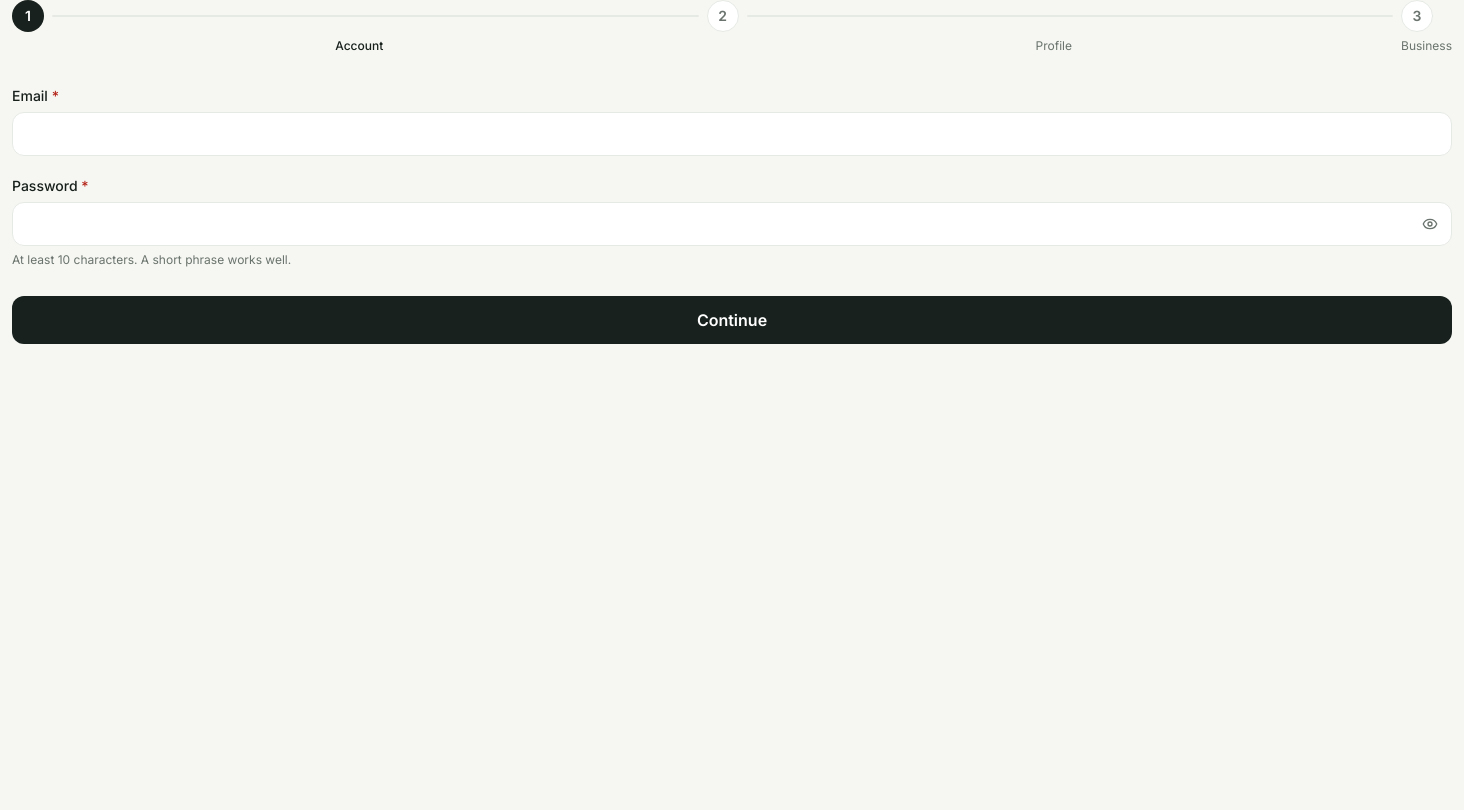
Test: SignupForm › suggests the page address from the business name until it's edited
Type "asha@example.com" into the field labelled "Email *" at point(732, 134), box [12, 112, 1452, 156]
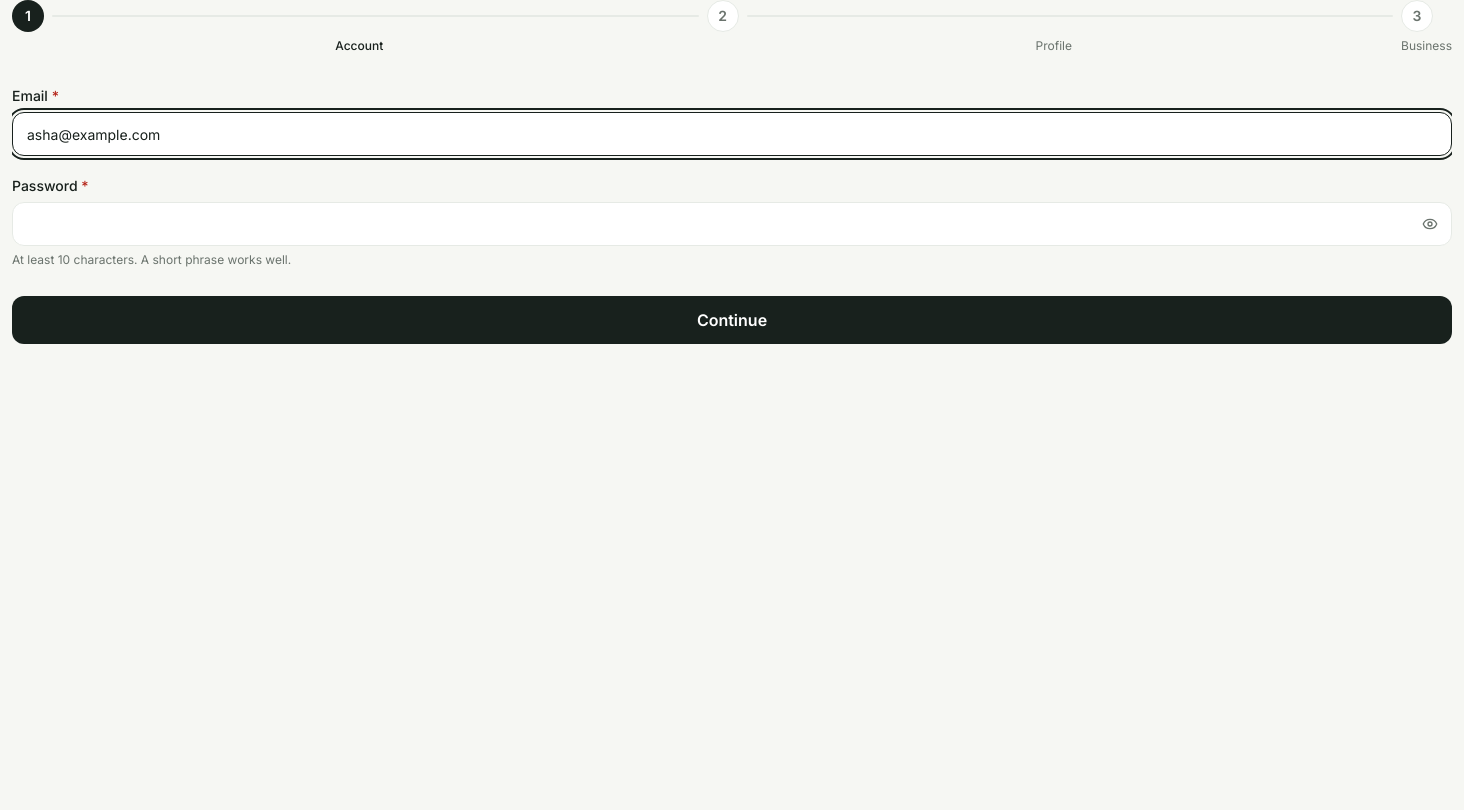
Type "a-long-unique-passphrase" into the password field labelled "Password *" at point(732, 224), box [12, 202, 1452, 246]
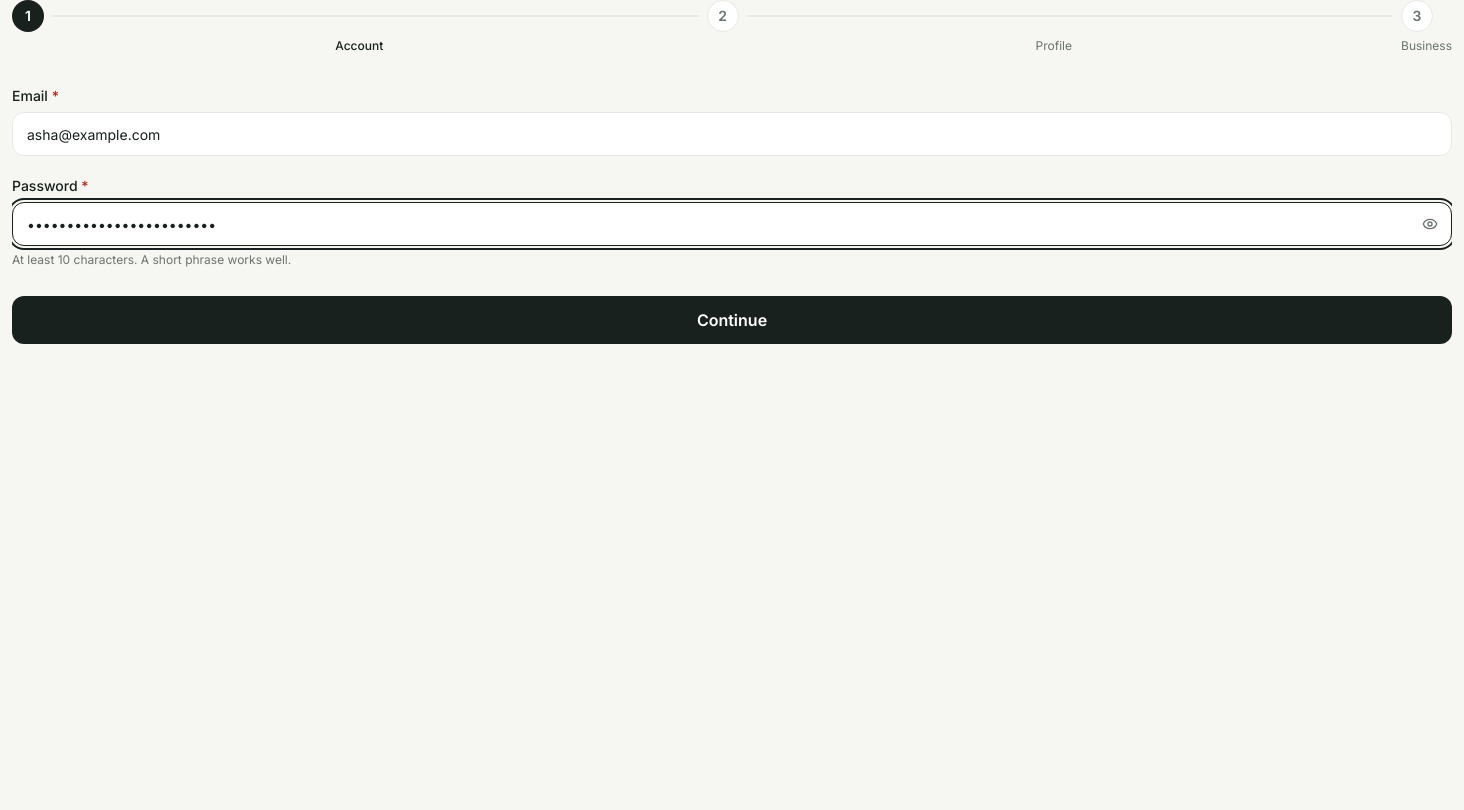
Click the button "Continue" at point(732, 320), box [12, 296, 1452, 344]
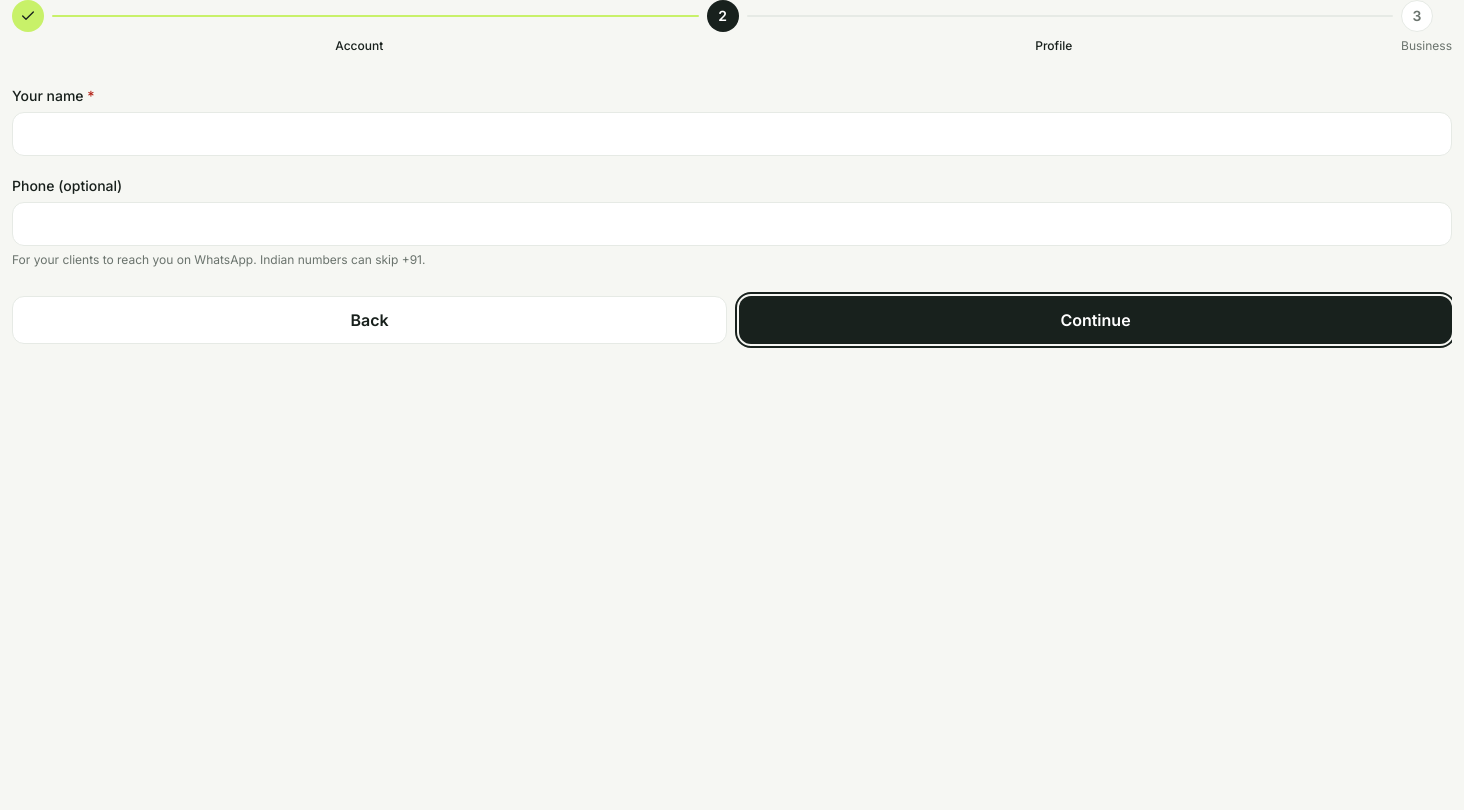
Type "Asha Rao" into the field labelled "Your name *" at point(732, 134), box [12, 112, 1452, 156]
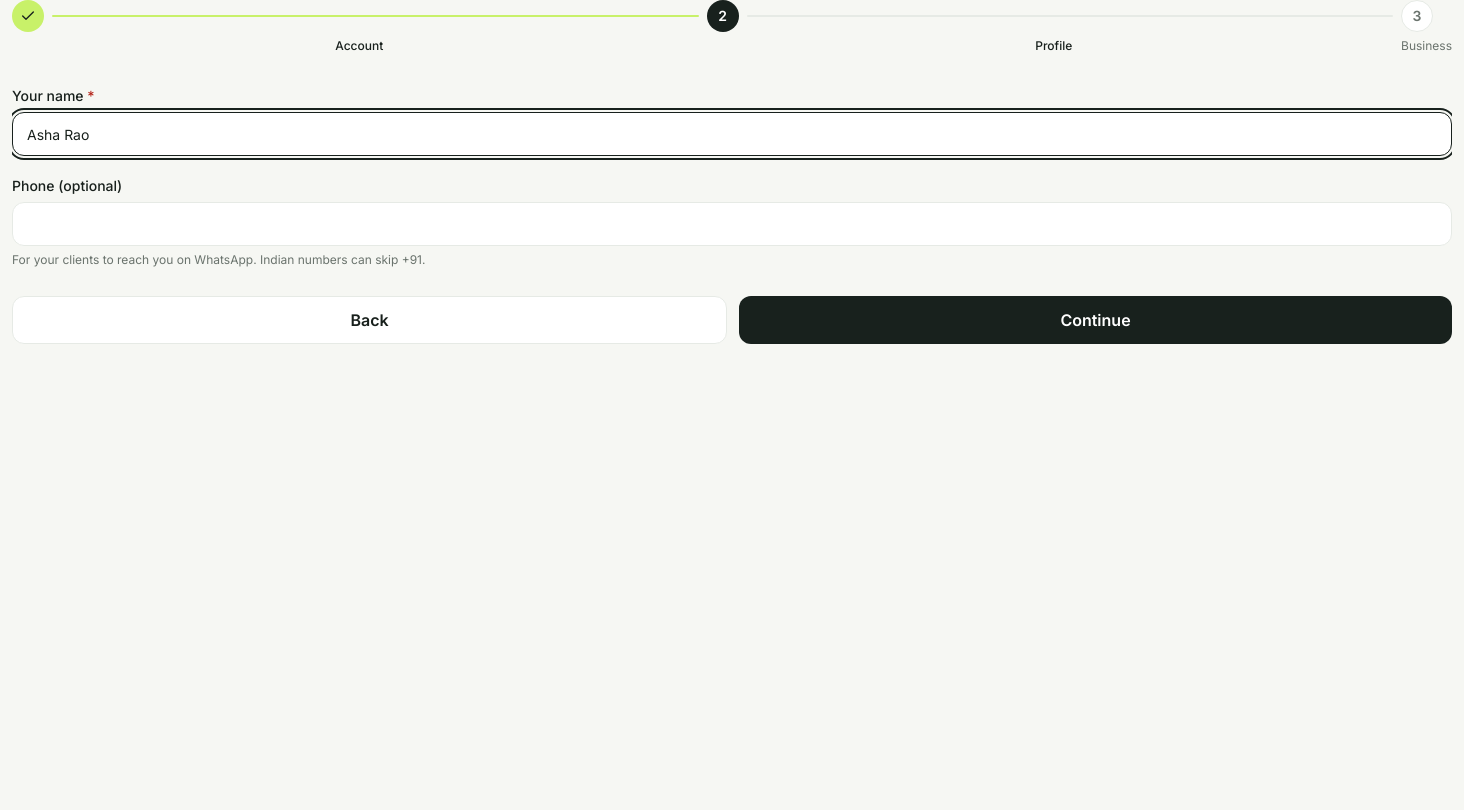
Click the button "Continue" at point(1096, 320), box [739, 296, 1452, 344]
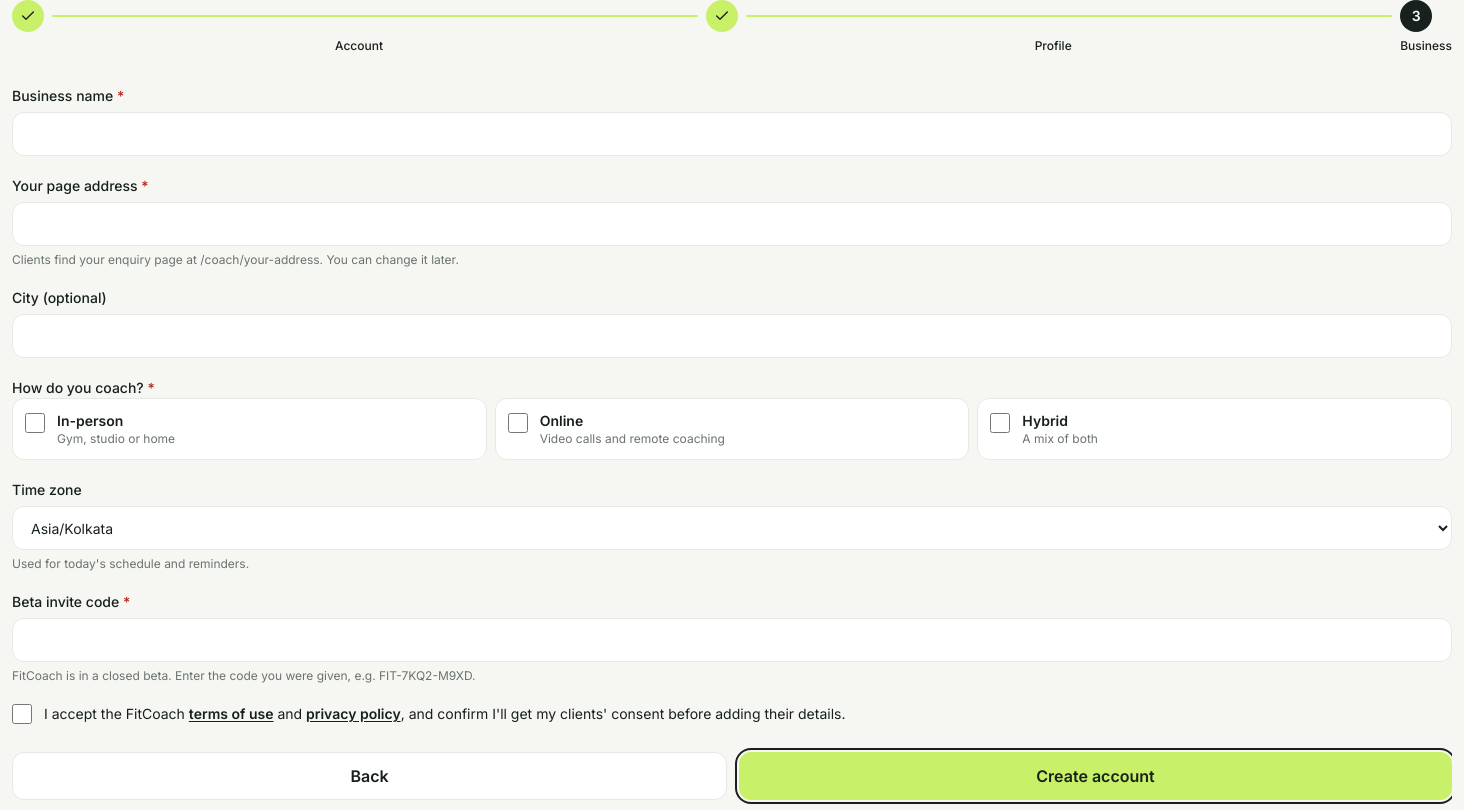
Type "Asha’s Fitness Studio" into the field labelled "Business name *" at point(732, 134), box [12, 112, 1452, 156]
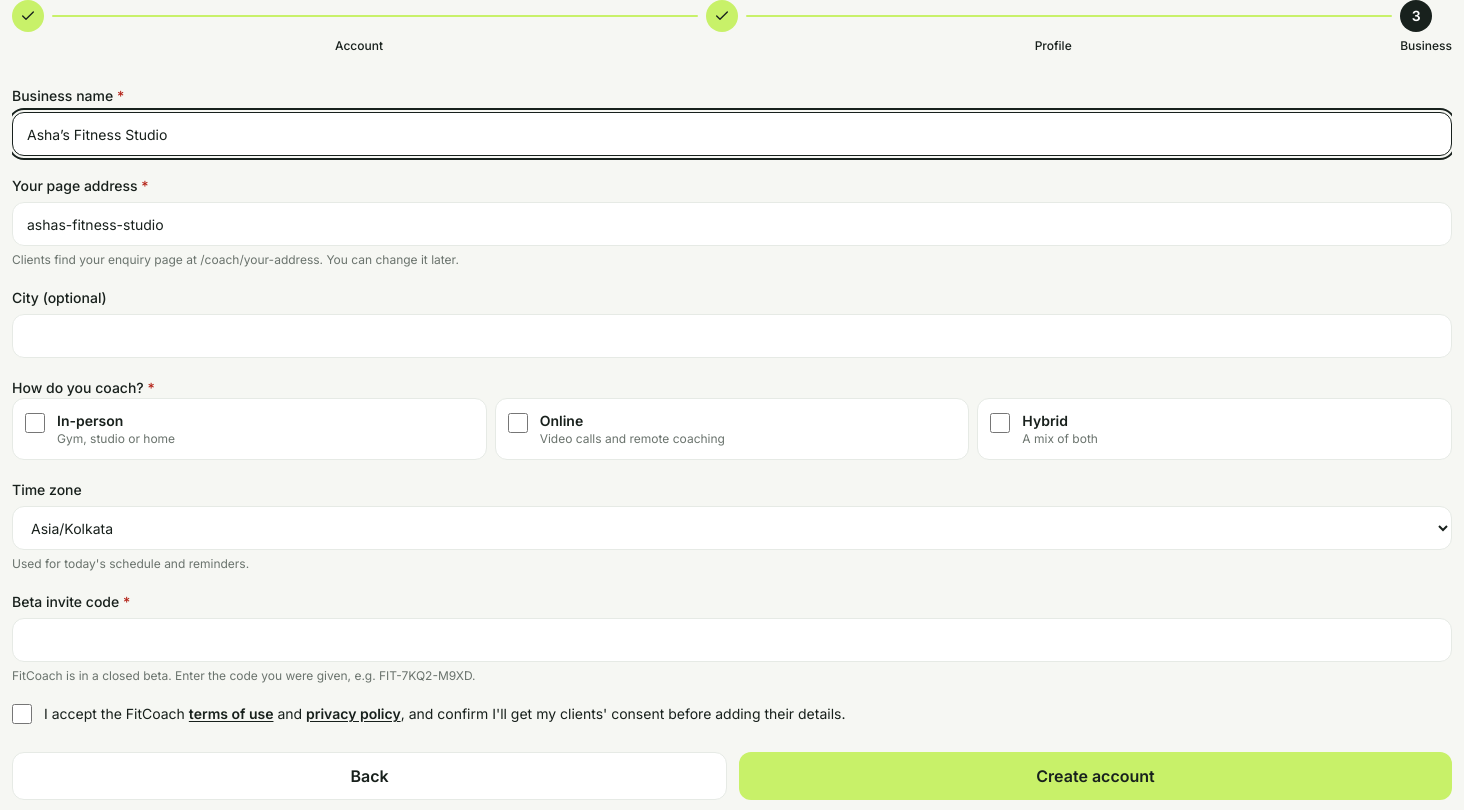
expect the field labelled "Your page address *" holds "ashas-fitness-studio": met, box [12, 202, 1452, 246]
